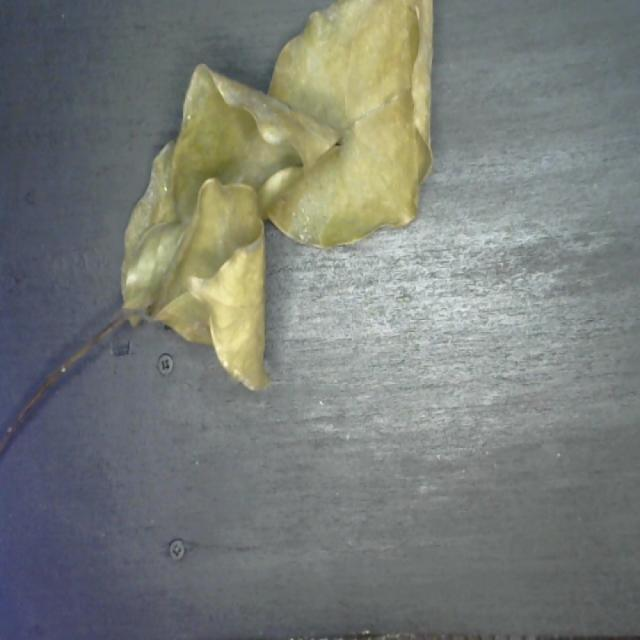biodegradable: (108, 0, 446, 401)
